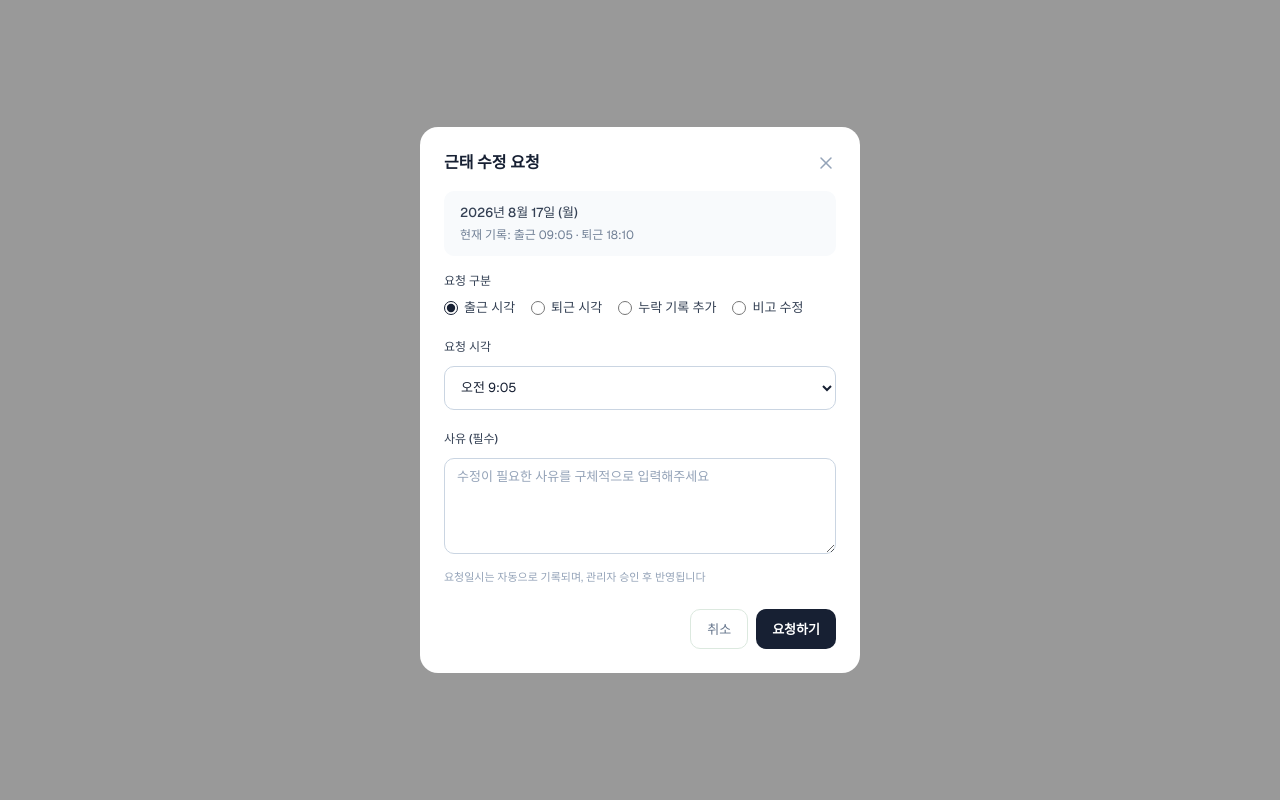
Scenario: AttendanceCreateEditRequestModal › 요청 구분을 비고 수정으로 바꾸면 현재 비고와 수정할 비고 입력란이 나타나고, 비고가 비어있으면 에러를 노출한다
Click the radio button labelled "비고 수정".
click(740, 308)  # box [732,301,746,315]
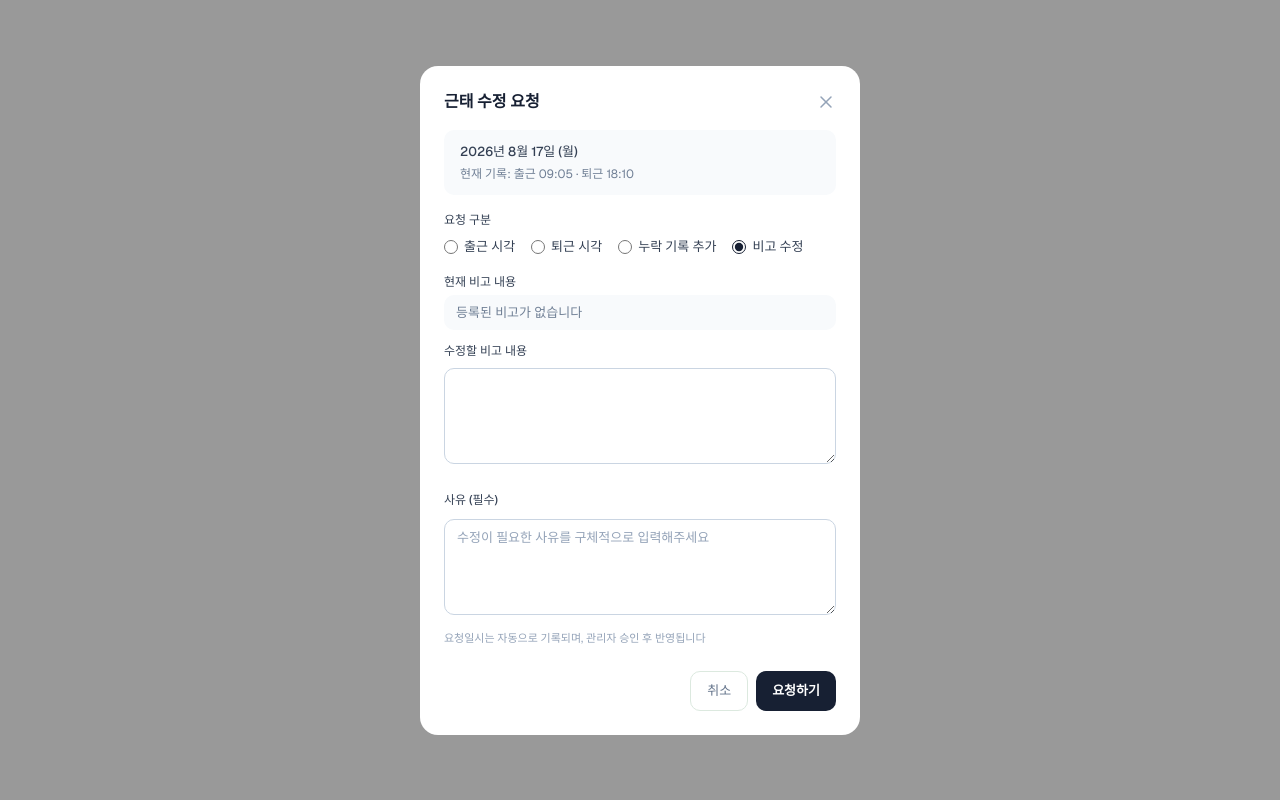
Expected: the text "등록된 비고가 없습니다" is shown, [444,294,836,330]
Type "비고 정정 요청" into the text box labelled "사유 (필수)".
click(640, 567); type("비고 정정 요청")  # box [444,519,836,615]
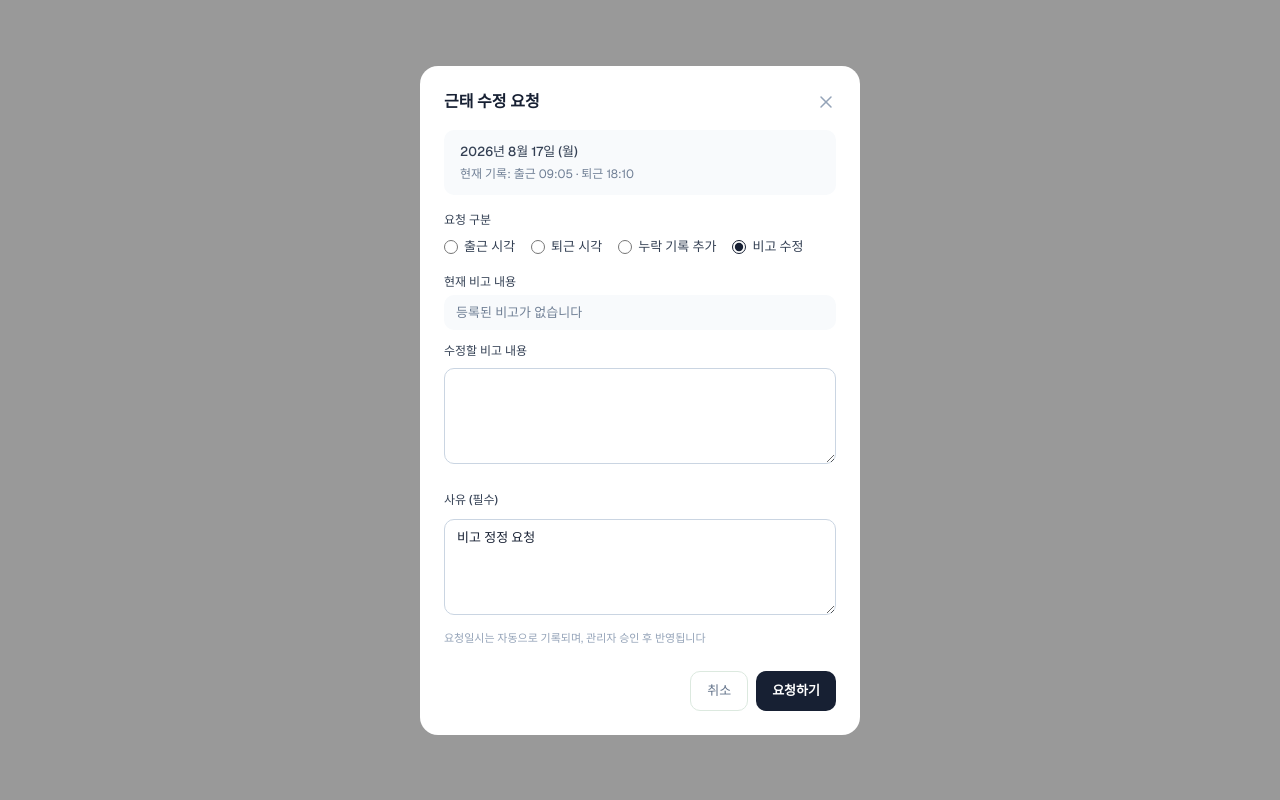
Click the button "요청하기".
click(796, 690)  # box [756,670,836,710]
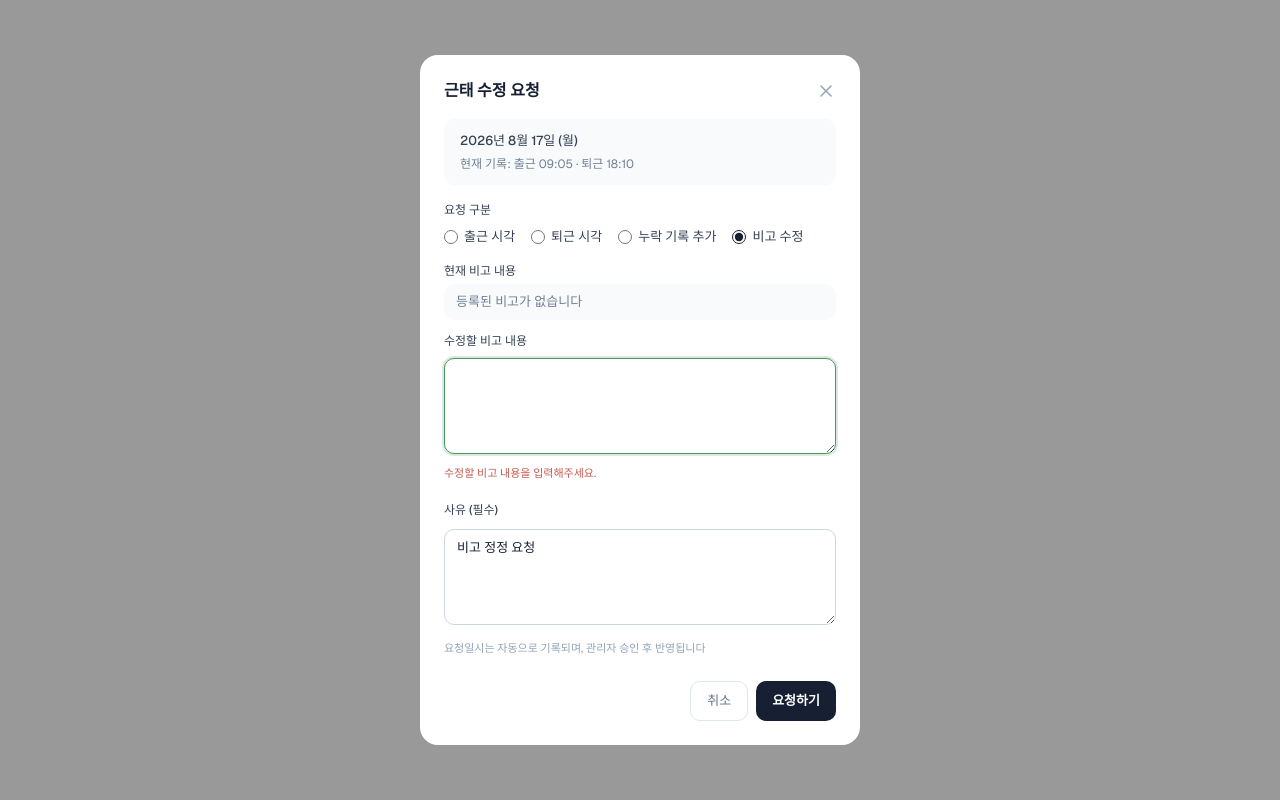
Expected: the text "수정할 비고 내용을 입력해주세요." is shown, [444,466,596,480]
